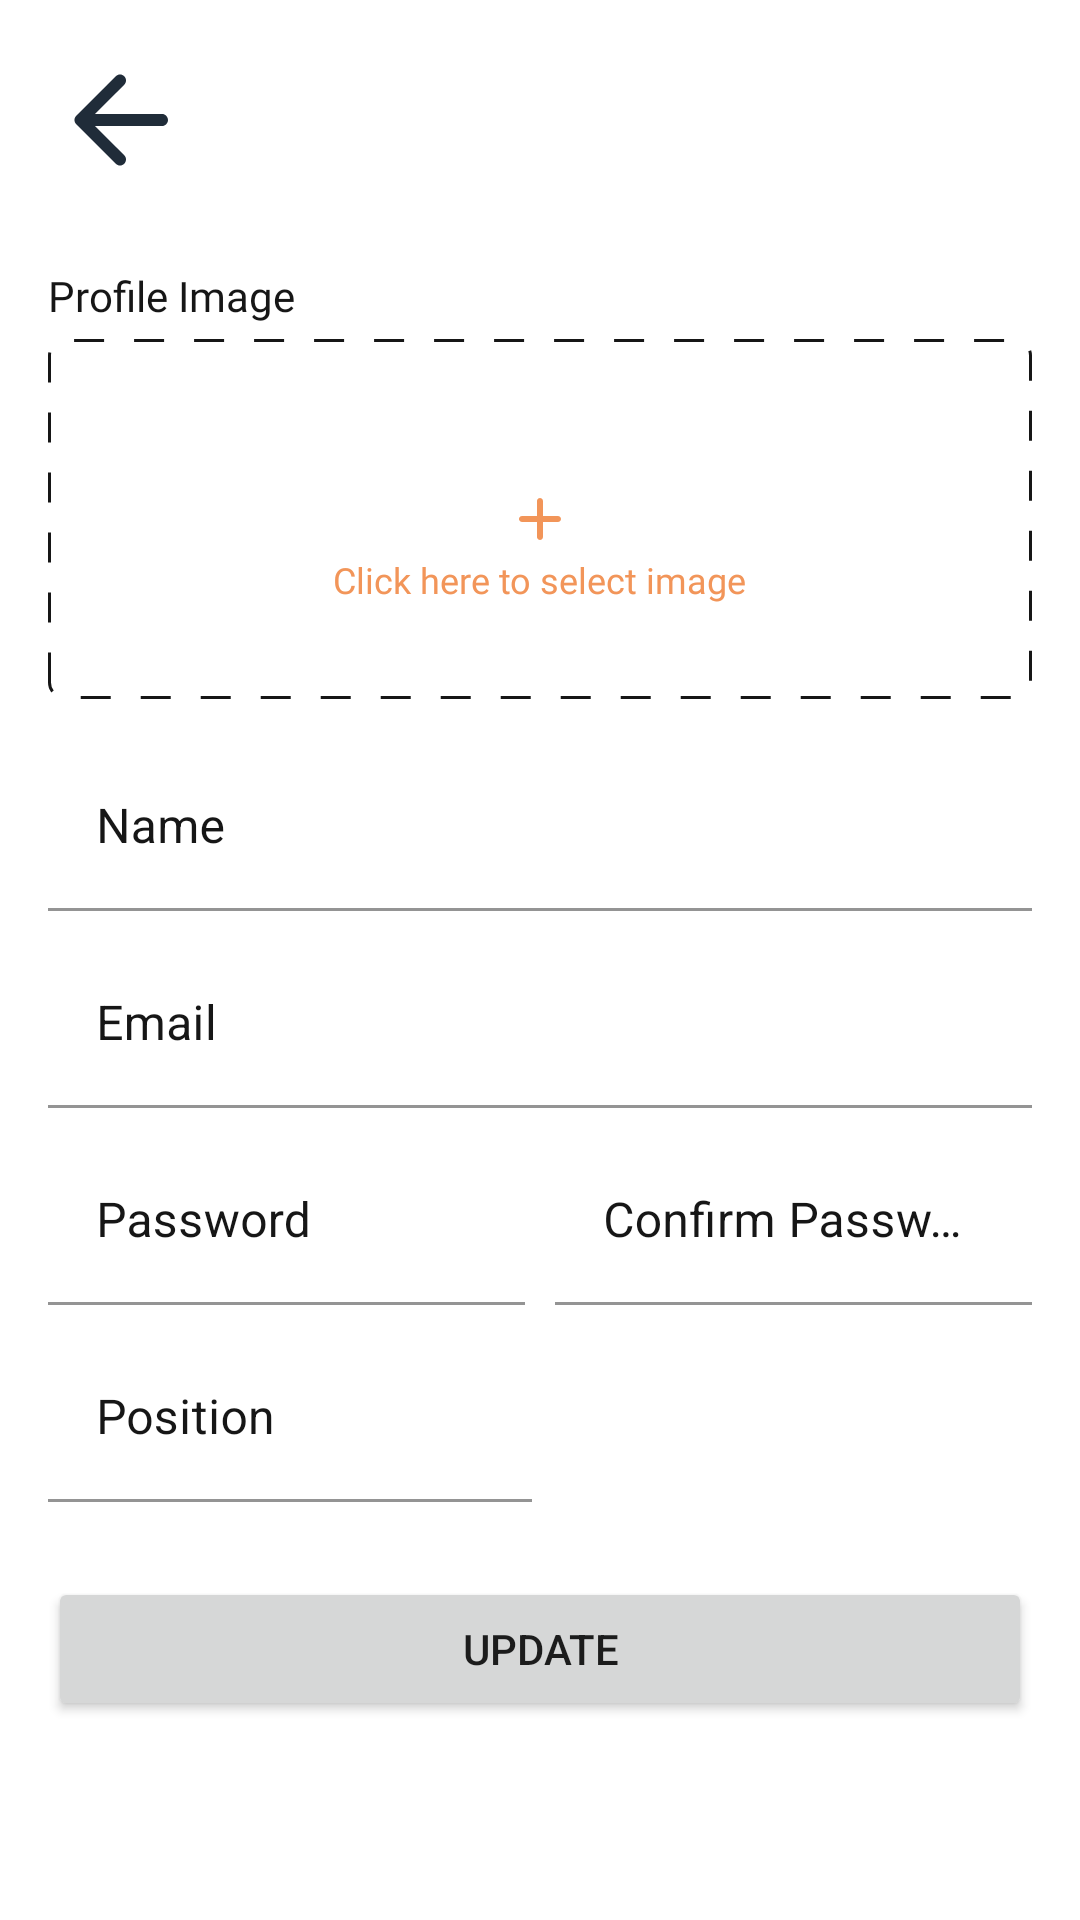

Screen size 1080*1920. Icon name, then its box in pixels as (x1, y1, x2, y2):
add: (519, 498, 561, 540)
back: (74, 74, 168, 166)
